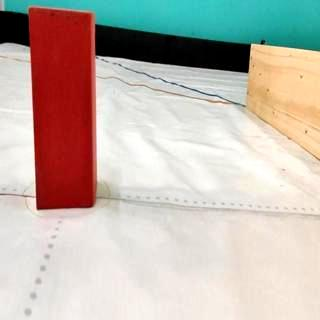redbox: (28, 5, 98, 211)
